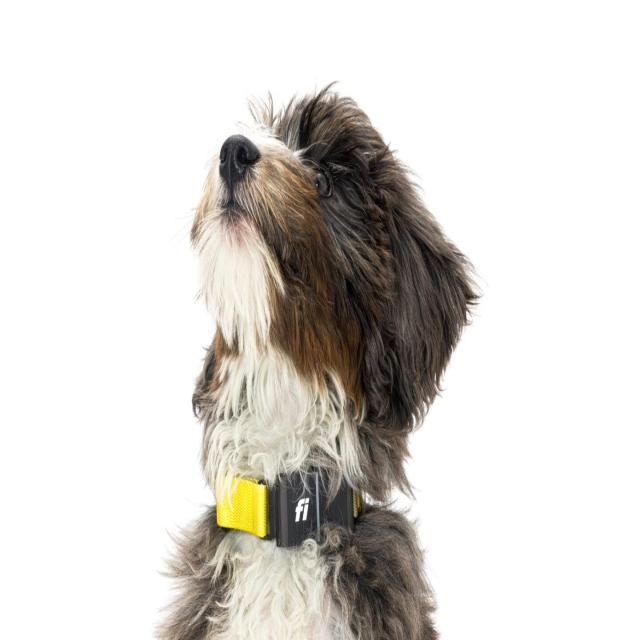Dog: (183, 78, 480, 469)
